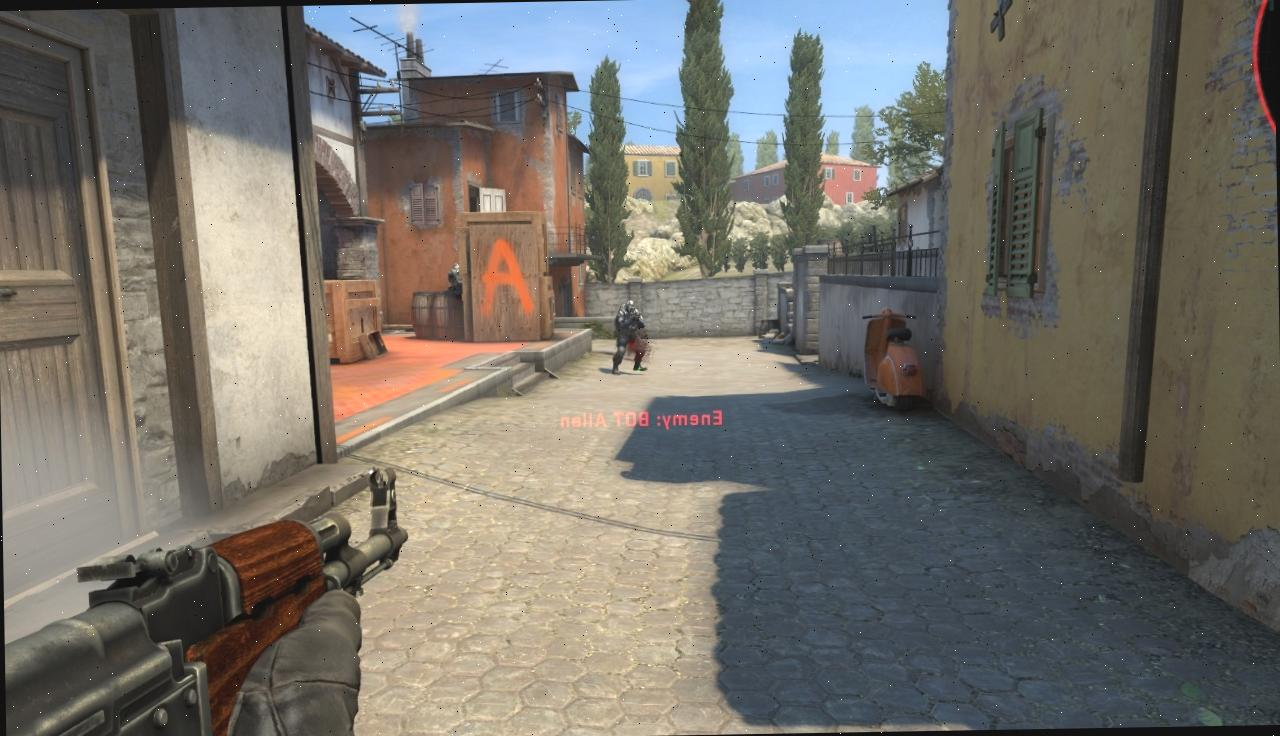ct: (614, 300, 646, 375), (448, 263, 460, 290)
cthead: (624, 300, 636, 314)
rifle: (1, 467, 410, 736)
